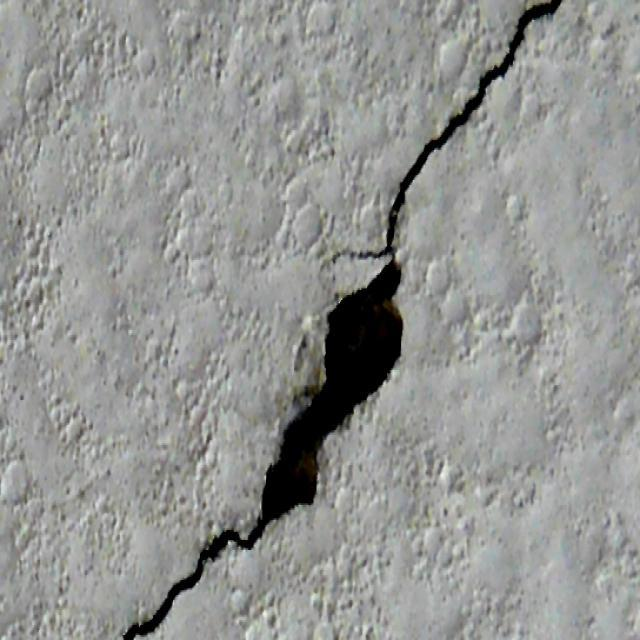Annular: (238, 252, 416, 531)
Diagonal: (115, 0, 570, 640)
